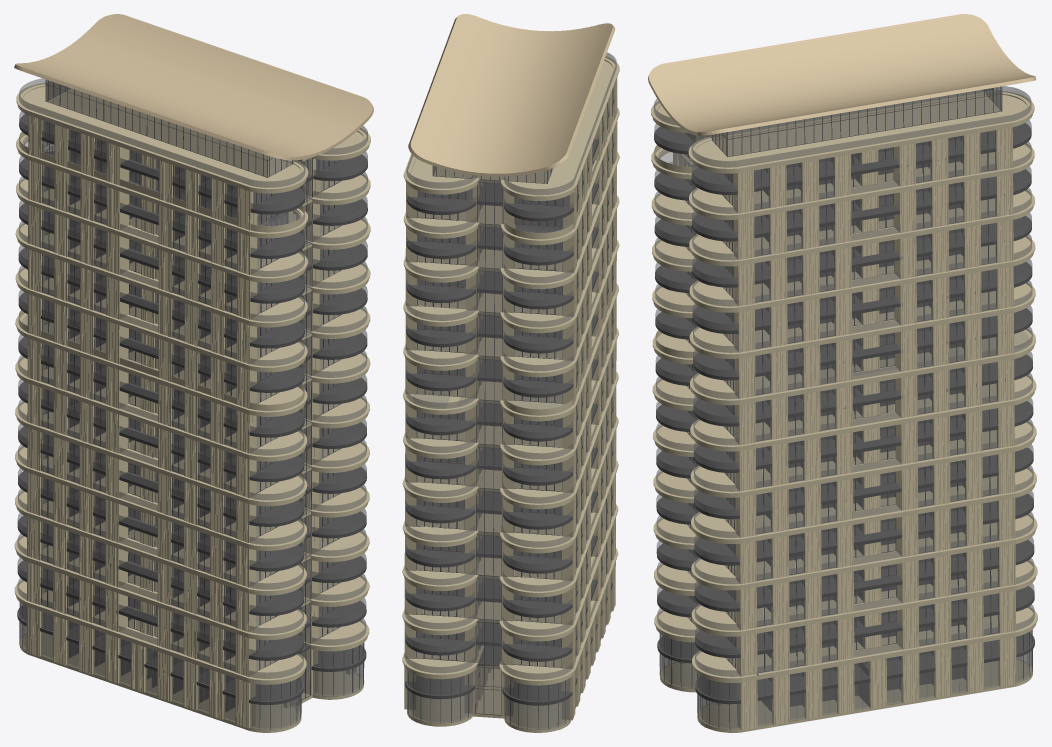
Rendered from Monaco_B4_Import3DFiles1.glb.
3 views of the same model, side by side, from view 1: azimuth 30°, elevation 25°; view 2: azimuth 150°, elevation 25°; view 3: azimuth 270°, elevation 25° (orthographic). The views are drawn at different scales.
Parts seen in each view (by area): view 1: mesh_material_from_multipatch_1, mesh_material_from_multipatch_4, mesh_material_from_multipatch_6, mesh_material_from_multipatch_5, mesh_material_from_multipatch_2, mesh_material_from_multipatch_3; view 2: mesh_material_from_multipatch_1, mesh_material_from_multipatch_4, mesh_material_from_multipatch_6, mesh_material_from_multipatch_2, mesh_material_from_multipatch_5, mesh_material_from_multipatch_3; view 3: mesh_material_from_multipatch_1, mesh_material_from_multipatch_4, mesh_material_from_multipatch_6, mesh_material_from_multipatch_5, mesh_material_from_multipatch_2, mesh_material_from_multipatch_3.
Boxes of the visible parts, x1,y1,x2,y2 form: mesh_material_from_multipatch_1: [14, 82, 370, 732]; mesh_material_from_multipatch_4: [17, 78, 367, 722]; mesh_material_from_multipatch_6: [17, 79, 367, 729]; mesh_material_from_multipatch_5: [28, 116, 311, 727]; mesh_material_from_multipatch_2: [14, 14, 373, 160]; mesh_material_from_multipatch_3: [19, 80, 364, 729]; mesh_material_from_multipatch_1: [402, 56, 619, 732]; mesh_material_from_multipatch_4: [405, 52, 616, 716]; mesh_material_from_multipatch_6: [405, 88, 614, 729]; mesh_material_from_multipatch_2: [408, 14, 615, 176]; mesh_material_from_multipatch_5: [476, 77, 617, 718]; mesh_material_from_multipatch_3: [406, 166, 570, 729]; mesh_material_from_multipatch_1: [651, 90, 1037, 732]; mesh_material_from_multipatch_4: [654, 86, 1034, 726]; mesh_material_from_multipatch_6: [654, 86, 1034, 729]; mesh_material_from_multipatch_5: [681, 127, 1014, 729]; mesh_material_from_multipatch_2: [648, 14, 1036, 135]; mesh_material_from_multipatch_3: [659, 87, 1032, 729].
Bounding box in the file's own units: 36.25 × 86.32 × 50.37.
